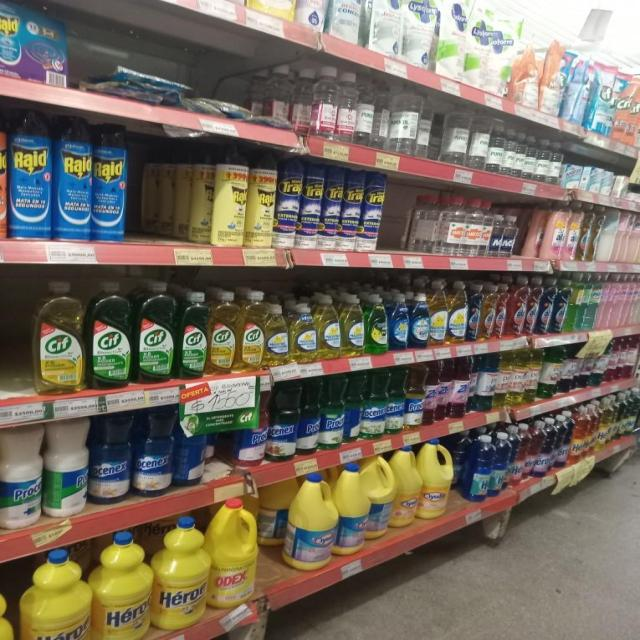ala_conc_amarillo: (482, 283, 495, 340), (580, 206, 593, 261)
ala_conc_azul: (468, 282, 482, 342), (539, 277, 552, 335), (553, 278, 566, 334)
ala_conc_rojo: (508, 277, 525, 337), (526, 277, 539, 335), (496, 281, 507, 338)
cif_conc_bot_amarilla: (32, 280, 84, 395), (209, 290, 237, 374), (238, 290, 264, 371)
cif_conc_botella_verde: (88, 279, 132, 389), (135, 281, 175, 384), (178, 290, 208, 379)
magistral_con_amarillo: (290, 302, 316, 363), (317, 294, 341, 360), (265, 301, 289, 367), (342, 293, 365, 357), (448, 280, 467, 344), (430, 280, 448, 346)
magistral_con_azul: (389, 292, 408, 351), (410, 292, 429, 348)
magistral_con_verde: (366, 292, 388, 354)
